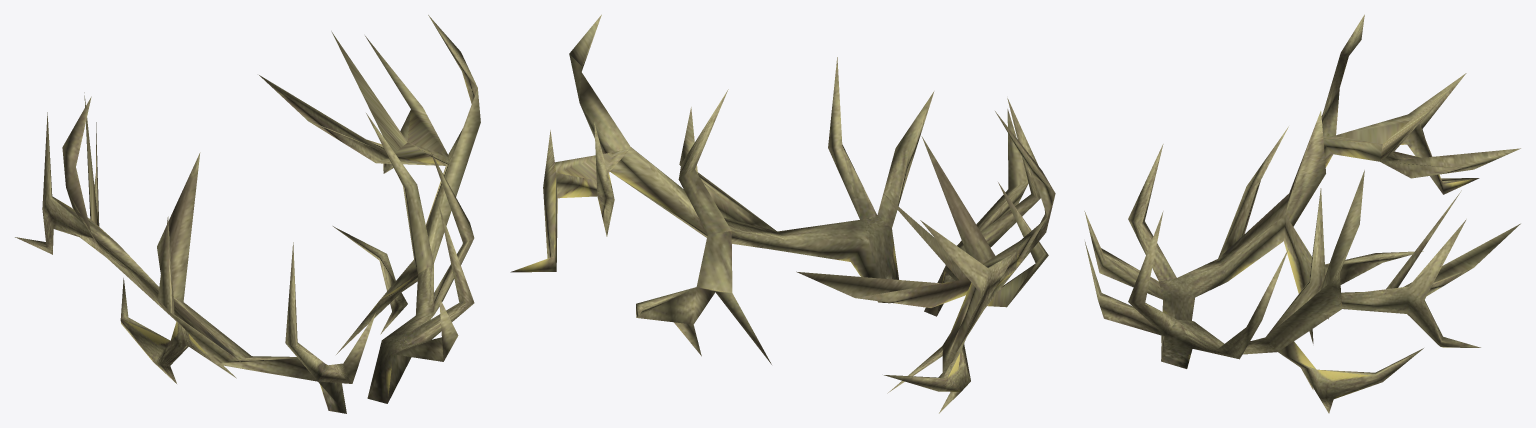
File: antlers_low.glb
3 renders of one model, left to right at view 1: azimuth 30°, elevation 25°; view 2: azimuth 150°, elevation 25°; view 3: azimuth 270°, elevation 25°, orthographic. The views are drawn at different scales.
Visible parts, largest first — view 1: deer-antlers.jpg__; view 2: deer-antlers.jpg__; view 3: deer-antlers.jpg__.
Part boxes in pixels (x1,y1,x2,y2): deer-antlers.jpg__: (15,15,480,413); deer-antlers.jpg__: (510,14,1055,413); deer-antlers.jpg__: (1084,14,1520,413).
Size of the model in its own units: 3.23 by 2.2 by 3.16.
Materials: 1 (1 with a texture image).
